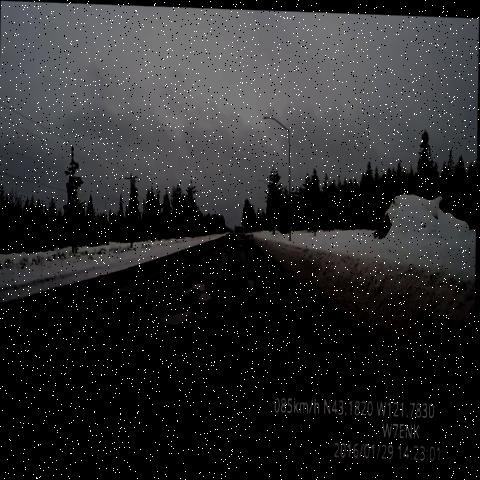pothole: (177, 267, 221, 309), (153, 299, 196, 339), (239, 279, 260, 309), (216, 243, 235, 264), (222, 236, 237, 252)
